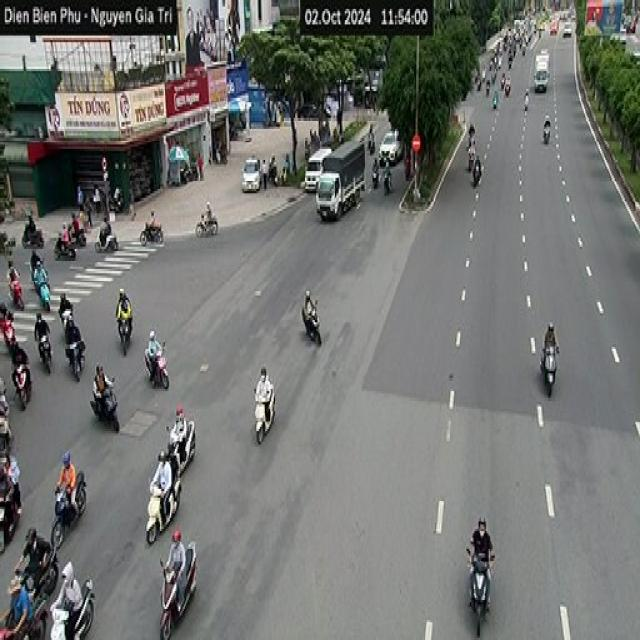car: (381, 123, 405, 174), (244, 151, 262, 189), (549, 12, 561, 38), (564, 21, 575, 47)
motorcycle: (158, 555, 201, 635), (46, 480, 91, 539), (51, 591, 99, 640), (470, 556, 498, 626), (80, 391, 130, 429), (145, 489, 189, 532), (0, 595, 42, 640), (138, 338, 166, 400), (16, 558, 58, 596), (162, 425, 198, 466), (537, 344, 562, 396), (0, 497, 26, 547), (8, 362, 38, 404), (64, 336, 89, 385), (34, 338, 60, 380), (255, 398, 282, 438), (116, 307, 137, 356), (0, 419, 22, 465), (0, 276, 26, 312), (137, 218, 168, 248), (188, 218, 223, 244), (298, 311, 326, 342), (0, 334, 23, 368), (50, 236, 78, 262), (97, 234, 120, 261), (19, 223, 42, 248), (33, 280, 54, 306), (468, 165, 487, 193), (462, 132, 479, 157), (105, 195, 127, 214), (68, 220, 87, 240), (463, 151, 477, 178), (364, 136, 379, 160), (0, 234, 11, 261), (372, 165, 381, 198), (382, 171, 396, 192), (282, 166, 296, 186), (270, 166, 279, 190), (504, 86, 514, 105), (485, 80, 494, 99), (541, 130, 553, 144), (500, 76, 506, 98), (507, 51, 517, 64), (487, 53, 495, 68), (493, 96, 501, 110), (524, 102, 530, 114)
person: (17, 525, 48, 589), (56, 562, 81, 628), (166, 530, 190, 598), (6, 580, 32, 640), (153, 438, 174, 512), (89, 358, 116, 413), (4, 321, 28, 373), (58, 452, 78, 510), (172, 402, 189, 468), (475, 513, 489, 587), (3, 447, 25, 492), (148, 316, 163, 378), (254, 362, 274, 408), (544, 314, 559, 366), (65, 304, 78, 359), (22, 206, 39, 246), (120, 278, 133, 330), (50, 290, 75, 316), (113, 299, 131, 332), (35, 306, 49, 345), (303, 290, 317, 326), (67, 206, 80, 239), (0, 458, 9, 504), (260, 162, 273, 190), (37, 262, 47, 298), (467, 127, 477, 163), (8, 264, 19, 294), (32, 252, 40, 292), (56, 212, 64, 252), (468, 104, 478, 136), (202, 193, 212, 221), (474, 147, 483, 178), (542, 109, 551, 137), (149, 206, 158, 234), (368, 121, 378, 146), (387, 154, 395, 184), (102, 217, 110, 246), (0, 212, 7, 244), (286, 143, 294, 171), (272, 151, 281, 169), (372, 160, 378, 179), (526, 75, 530, 101), (502, 73, 508, 90), (493, 82, 499, 98), (487, 77, 493, 89), (508, 80, 512, 93)
truck: (317, 145, 363, 215), (534, 43, 552, 99)
